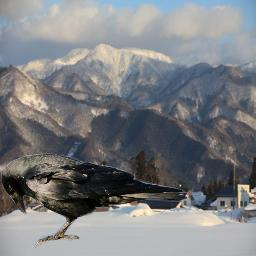Crow: (1, 153, 189, 248)
